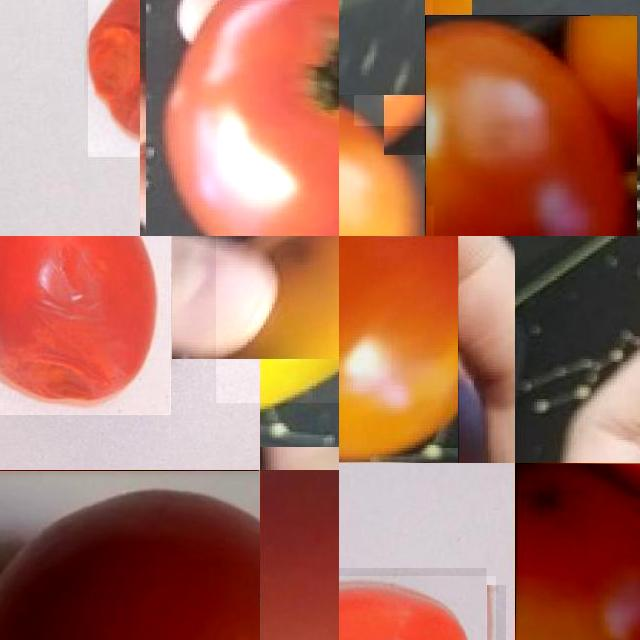0: (339, 236, 458, 463), (515, 463, 640, 640), (339, 576, 496, 640)
Fresh Tomato: (140, 0, 339, 236), (425, 15, 637, 236), (0, 470, 260, 640), (339, 95, 425, 236)
Rotten Tomato: (0, 236, 171, 415), (216, 236, 339, 403)
